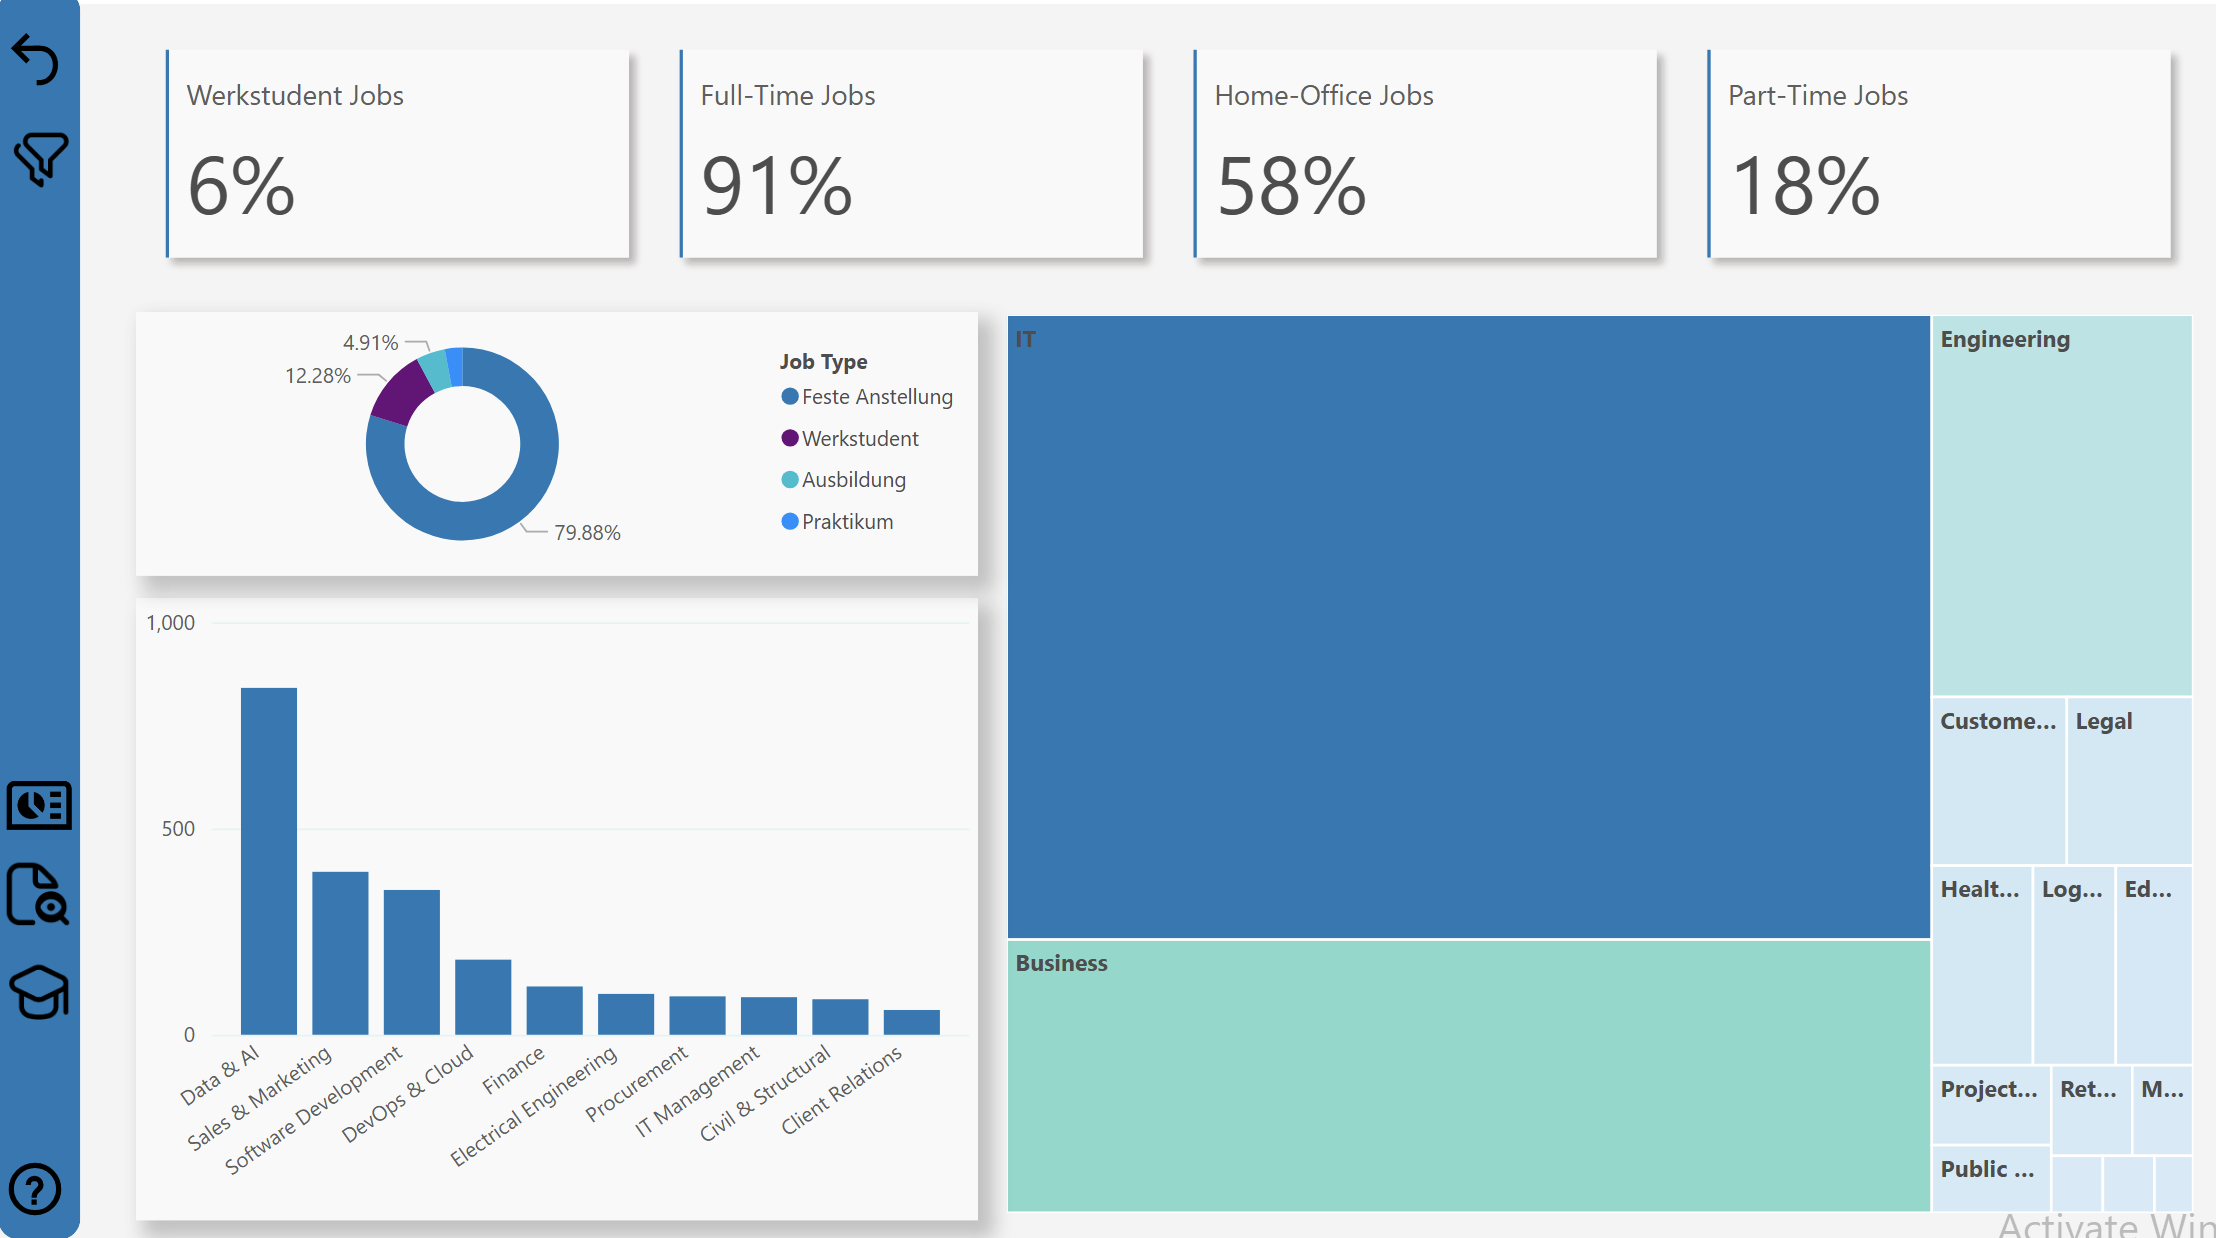

Layout of this report page (visuals, bound fields, positions):
{"tool":"powerbi","page":{"name":"job details","canvas":[1280,720],"ordinal":2},"visuals":[{"type":"shape","title":"background","box":[0,8.2,1280,711.8],"z":0},{"type":"treemap","fields":{"Group":["categories.sub_category_1","categories.sub_category_2","categories.sub_category_3"],"Values":["CountNonNull(categories.job_id)"]},"box":[576.1,181.9,693.4,527.3],"z":1000},{"type":"clusteredColumnChart","fields":{"Y":["CountNonNull(categories.job_id)"],"Category":["categories.sub_category_2"]},"box":[79.1,350.6,485.1,358.6],"z":2000},{"type":"donutChart","fields":{"Category":["job type.employment_type_type"],"Y":["Sum(job type.frequency)"]},"box":[79.5,185.5,485,152.1],"z":3000},{"type":"cardVisual","fields":{"Data":["mesures_table.werkstudent frequency","mesures_table.fulltime frequency","mesures_table.Homeoffice frequency","mesures_table.parttime frequency"]},"box":[79.5,17.3,1190,154.4],"z":4000},{"type":"shape","box":[0,0,47.5,719.8],"z":5000},{"type":"image","box":[1.2,77.2,47.2,41.5],"z":6000},{"type":"image","box":[0,555.3,47.2,43.8],"z":7000},{"type":"image","box":[0,497.7,46.1,46.1],"z":8000},{"type":"actionButton","box":[1.2,19.6,44.9,40.3],"z":9000},{"type":"actionButton","box":[1.2,670.5,44.9,40.3],"z":10000},{"type":"image","box":[0,445.6,47.5,47.5],"z":14000}]}

Visuals, with their boxes on the page's 1280x720 design canvas (x1, y1, x2, y2). These are canvas units, not pixel positions in the 2216x1238 screenshot, which may show the page scaled, cropped or inside an application window:
"background" shape: (0, 8, 1280, 720)
treemap - categories.sub_category_1 x categories.sub_category_2: (576, 182, 1270, 709)
clusteredColumnChart - CountNonNull(categories.job_id) x categories.sub_category_2: (79, 351, 564, 709)
donutChart - job type.employment_type_type x Sum(job type.frequency): (80, 186, 564, 338)
cardVisual - mesures_table.werkstudent frequency x mesures_table.fulltime frequency: (80, 17, 1270, 172)
shape: (0, 0, 48, 720)
image: (1, 77, 48, 119)
image: (0, 555, 47, 599)
image: (0, 498, 46, 544)
actionButton: (1, 20, 46, 60)
actionButton: (1, 670, 46, 711)
image: (0, 446, 48, 493)
